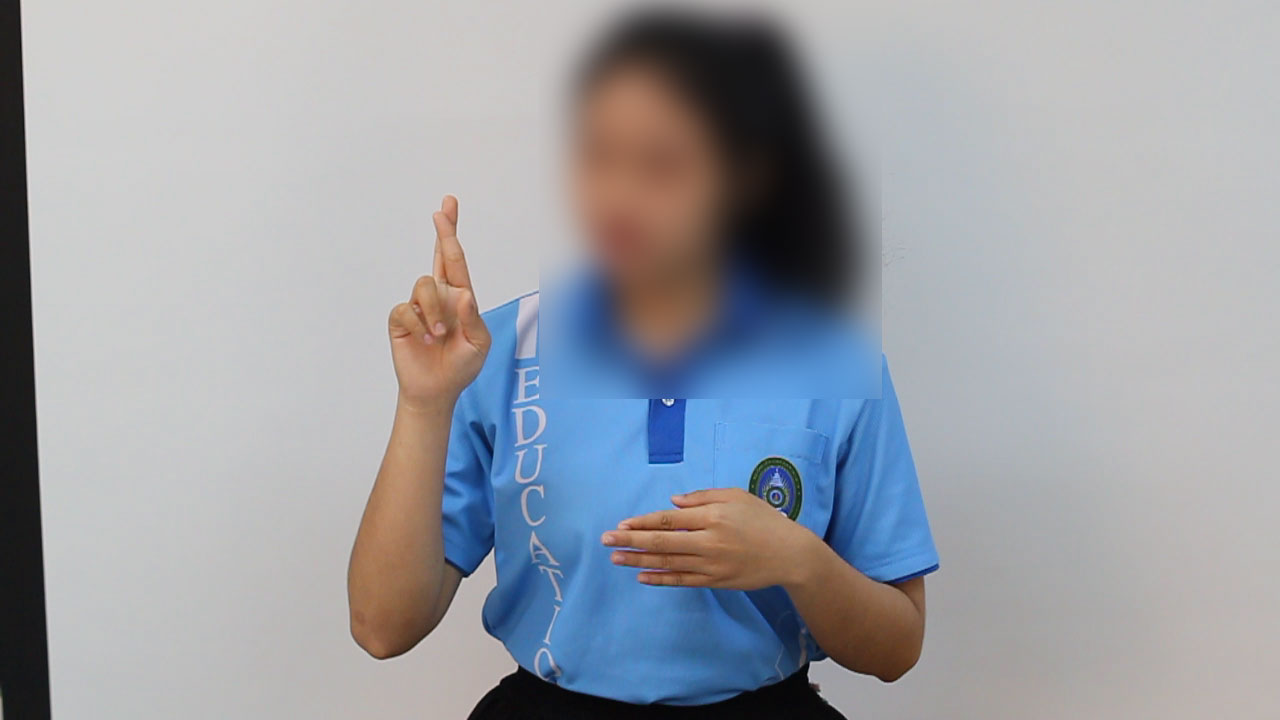rao: (372, 188, 499, 438)
